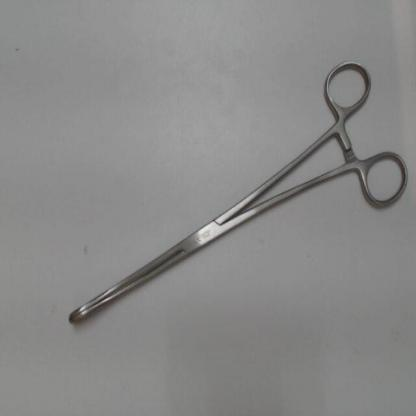Sponge Forceps: (57, 50, 410, 335)
